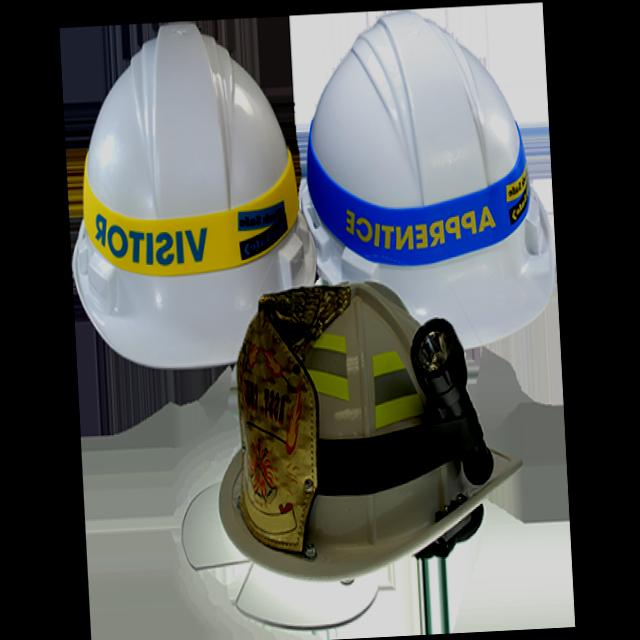helmet: (161, 253, 545, 640), (55, 5, 317, 382), (297, 0, 568, 361)
